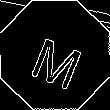M_N: (24, 23, 86, 87)
